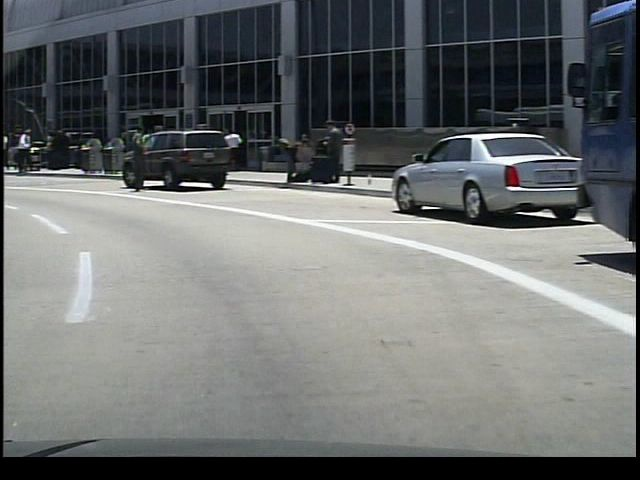person: (119, 116, 147, 199), (276, 129, 305, 183), (8, 124, 36, 179), (316, 119, 338, 188), (218, 125, 240, 173)
